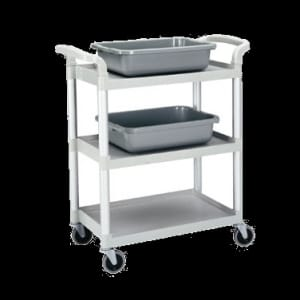Carts: (53, 32, 256, 276)
